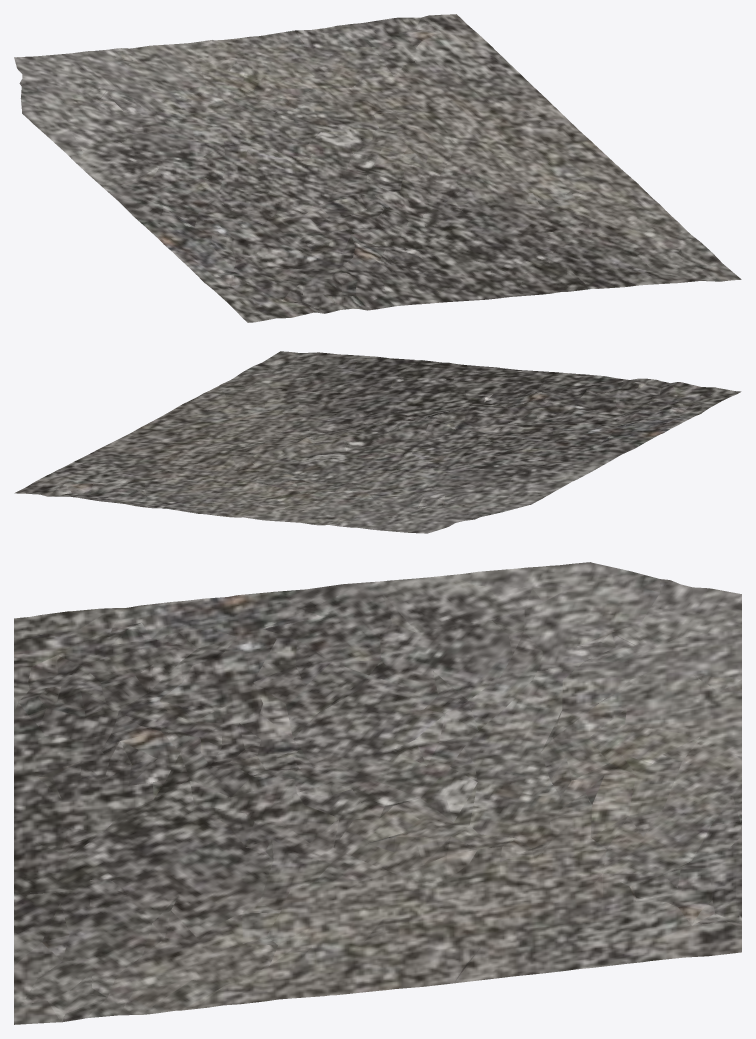
The picture shows the model from 3 angles, top to bottom: view 1: azimuth 30°, elevation 25°; view 2: azimuth 150°, elevation 25°; view 3: azimuth 270°, elevation 25°; orthographic projection. The views are drawn at different scales.
Bounding box in the file's own units: 0.8374 × 0.1969 × 0.8374.
3 materials, 3 textured.
